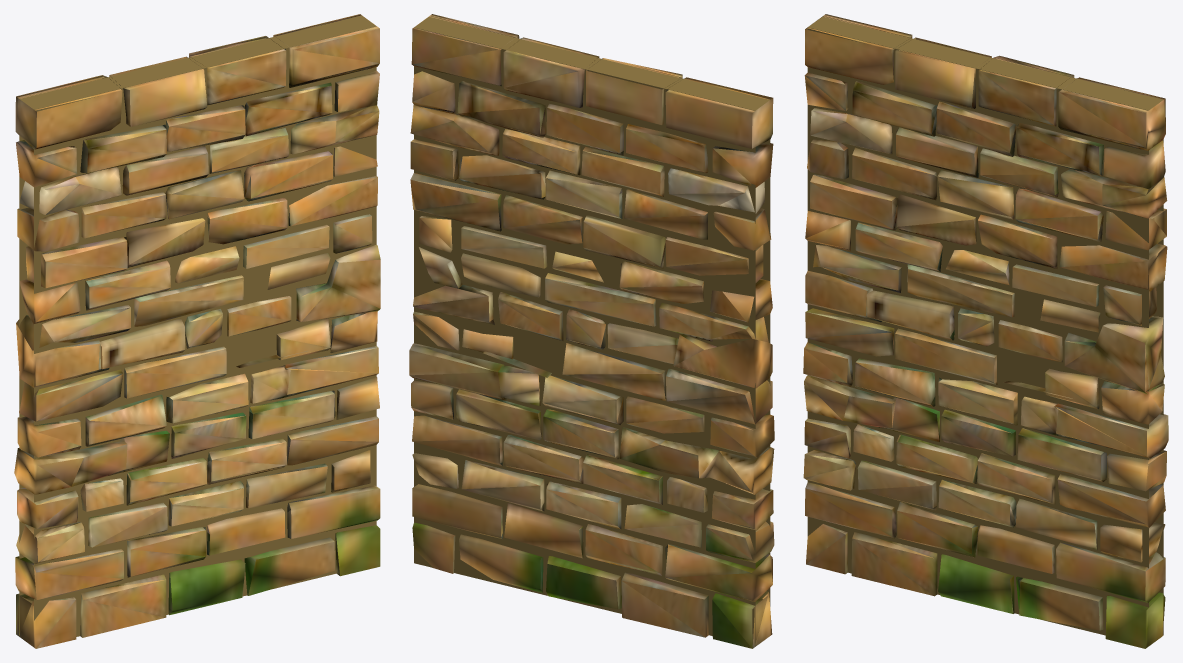
Rendered from wall-stone.lod1.glb.
3 renders of one model, left to right at view 1: azimuth 30°, elevation 25°; view 2: azimuth 150°, elevation 25°; view 3: azimuth 330°, elevation 25°, orthographic.
Bounding box in the file's own units: 2 × 3 × 0.25.
Materials: 1 (1 with a texture image).
